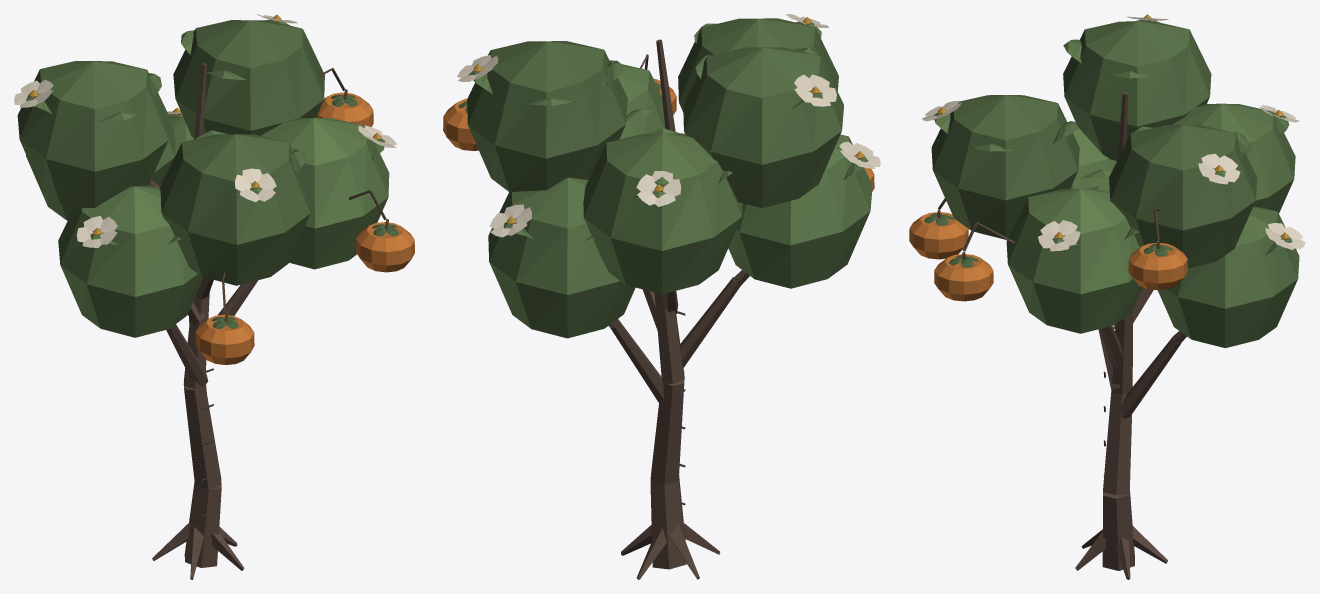
The model's file is persimmon_tree.glb.
The picture shows the model from 3 angles, left to right: view 1: azimuth 30°, elevation 25°; view 2: azimuth 150°, elevation 25°; view 3: azimuth 270°, elevation 25°; orthographic projection. The views are drawn at different scales.
Visible parts, largest first — view 1: leaves, branches, blossom, fruit_1, fruit_2, fruit_3; view 2: leaves, branches, blossom, fruit_3; view 3: leaves, branches, blossom, fruit_2, fruit_3, fruit_1.
Boxes of the visible parts, x1,y1,x2,y2 form: leaves: (17,19,389,337); branches: (148,63,370,579); blossom: (14,14,396,247); fruit_1: (195,279,254,364); fruit_2: (356,190,414,272); fruit_3: (316,68,373,126); leaves: (467,18,872,338); branches: (609,39,749,579); blossom: (457,14,880,237); fruit_3: (443,98,478,150); leaves: (931,19,1299,348); branches: (976,91,1186,579); blossom: (922,14,1305,251); fruit_2: (934,222,993,301); fruit_3: (1128,209,1187,290); fruit_1: (909,198,968,259).
Size of the model in its own units: 2.4 by 3.32 by 2.4.
